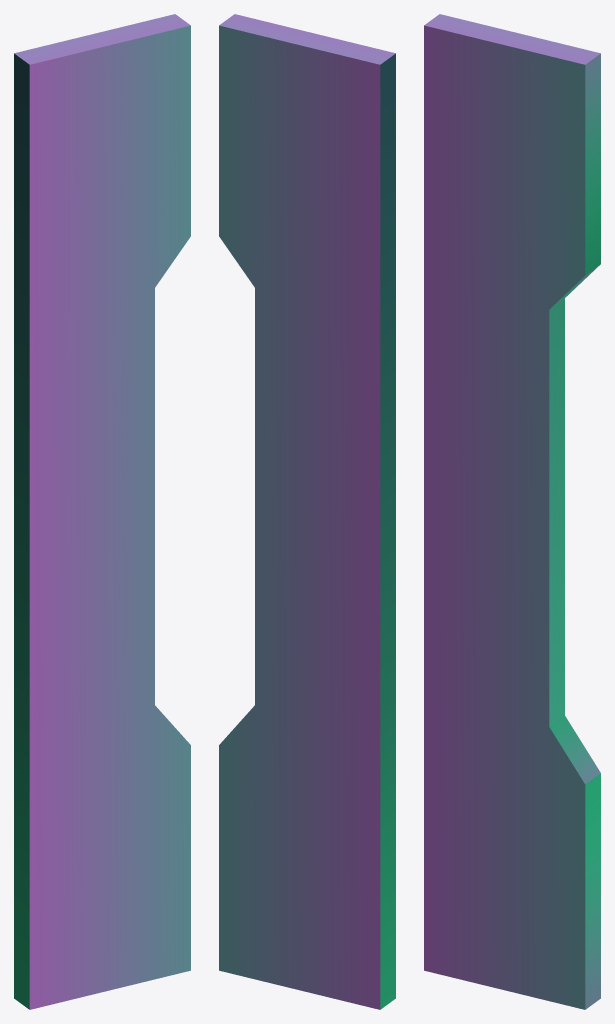
Rendered from Ram01.fbx.
The picture shows the model from 3 angles, left to right: view 1: azimuth 30°, elevation 25°; view 2: azimuth 150°, elevation 25°; view 3: azimuth 330°, elevation 25°; orthographic projection.
Visible parts, largest first — view 1: pCube17; view 2: pCube17; view 3: pCube17.
Boxes of the visible parts, x1,y1,x2,y2 form: pCube17: (14,14,190,1009); pCube17: (219,14,395,1009); pCube17: (424,14,600,1009).
Bounding box in the file's own units: 0.8604 × 4.82 × 0.1452.
